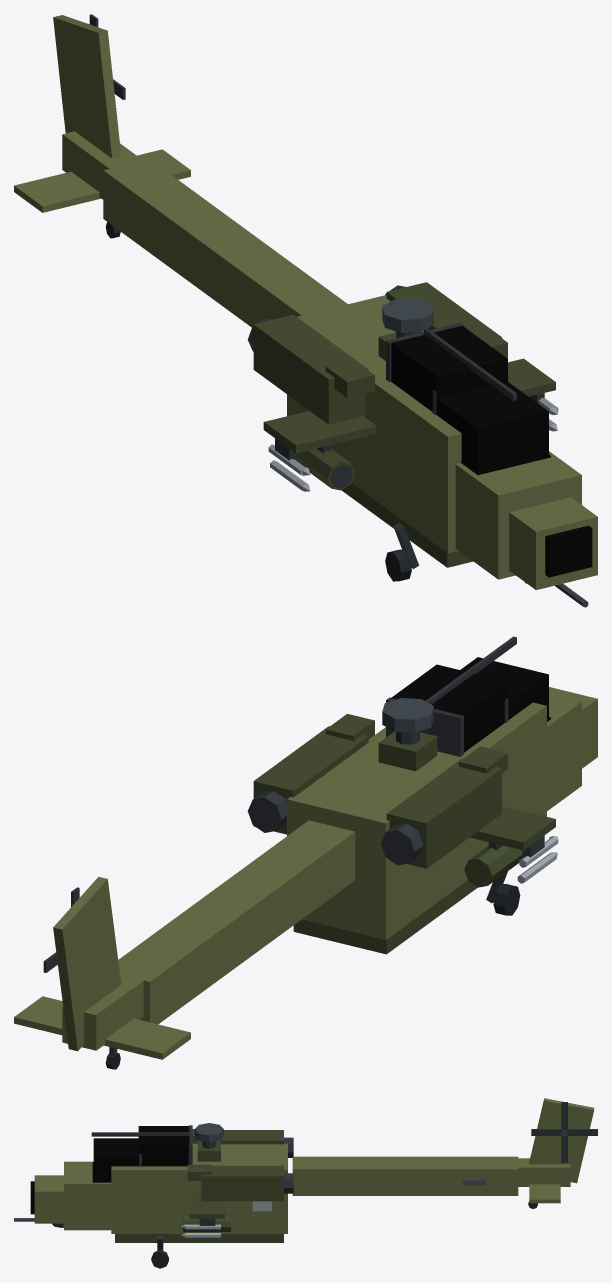
Rendered from veh_shrike_hull.fbx.
The picture shows the model from 3 angles, top to bottom: view 1: azimuth 30°, elevation 25°; view 2: azimuth 150°, elevation 25°; view 3: azimuth 270°, elevation 25°; orthographic projection. The views are drawn at different scales.
Visible parts, largest first — view 1: veh_shrike_hull; view 2: veh_shrike_hull; view 3: veh_shrike_hull.
Part boxes in pixels (left/top/right/bottom): veh_shrike_hull: left=14, top=14, right=597, bottom=607; veh_shrike_hull: left=14, top=636, right=597, bottom=1069; veh_shrike_hull: left=14, top=1098, right=597, bottom=1268.
Bounding box in the file's own units: 840 × 862 × 2975.
